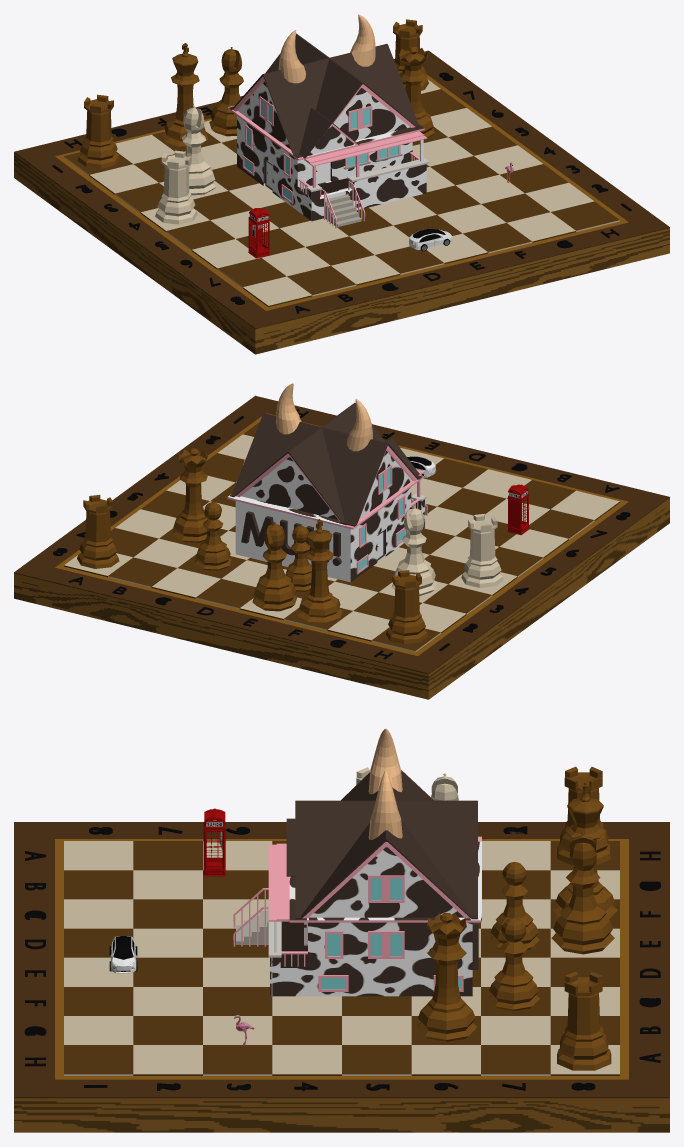
3 views of the same model, one above another, from view 1: azimuth 30°, elevation 25°; view 2: azimuth 150°, elevation 25°; view 3: azimuth 270°, elevation 25° (orthographic). The views are drawn at different scales.
Parts seen in each view (by area): view 1: Cube.002, Cube.1242, OBJRANDOM_PHONEBOOTH, VEHICLES_TESLA; view 2: Cube.002, Cube.1242, OBJRANDOM_PHONEBOOTH; view 3: Cube.002, Cube.1242, OBJRANDOM_PHONEBOOTH, VEHICLES_TESLA.
Boxes of the visible parts, x1,y1,x2,y2 form: Cube.002: (14,19,669,354); Cube.1242: (228,14,429,228); OBJRANDOM_PHONEBOOTH: (248,208,269,258); VEHICLES_TESLA: (408,229,452,251); Cube.002: (14,395,669,699); Cube.1242: (227,383,427,582); OBJRANDOM_PHONEBOOTH: (507,484,529,534); Cube.002: (14,766,669,1132); Cube.1242: (233,728,481,996); OBJRANDOM_PHONEBOOTH: (203,808,225,876); VEHICLES_TESLA: (109,936,137,973).
Bounding box in the file's own units: 3981 × 1751 × 4012.
Materials: 43 (2 with a texture image).
